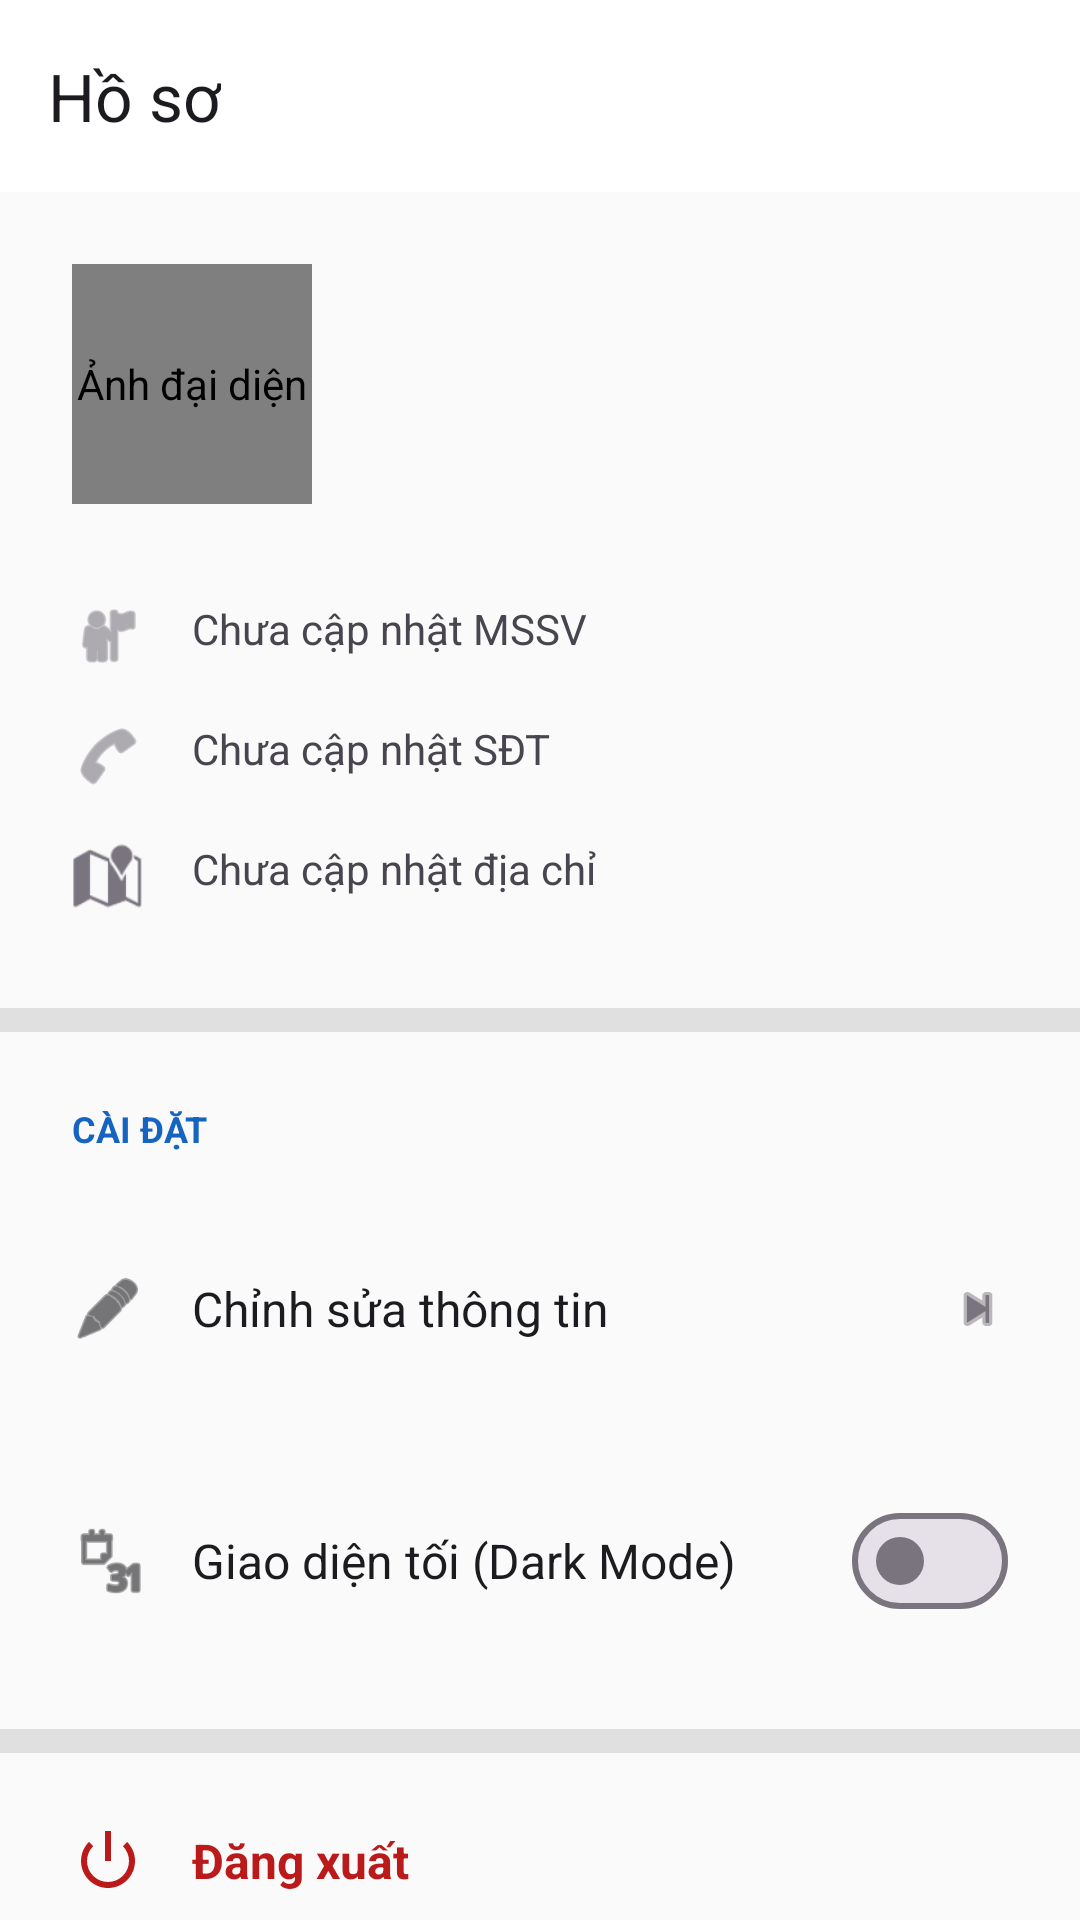

Icons on this 1080 x 1920 Android screen, each with its box as (x1, y1, x2, y2):
call: (80, 728, 136, 784)
edit: (77, 1278, 138, 1339)
lock power off: (81, 1831, 135, 1888)
map: (73, 844, 142, 908)
month: (80, 1529, 141, 1593)
myplaces: (82, 609, 136, 663)
next: (964, 1292, 992, 1326)
